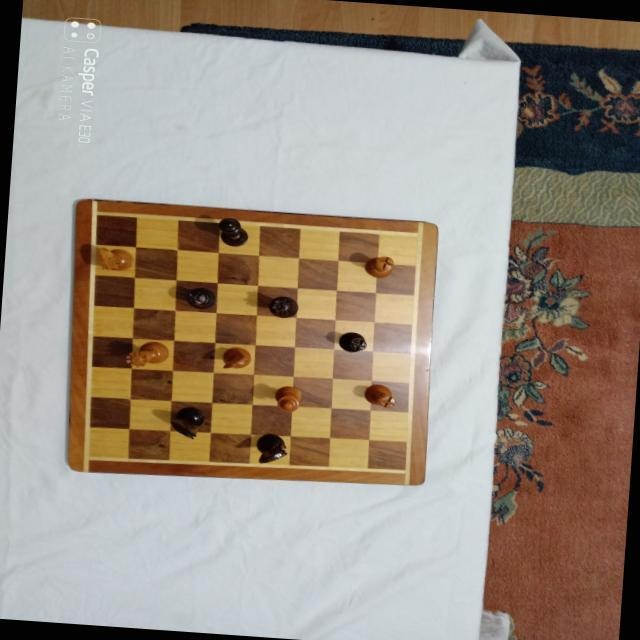black-king: (216, 216, 248, 247)
black-knight: (167, 405, 204, 439), (254, 431, 288, 464)
black-queen: (266, 295, 297, 319)
black-rook: (184, 286, 215, 310), (336, 331, 367, 353)
white-king: (272, 385, 303, 413)
white-knight: (94, 245, 134, 272), (220, 345, 252, 370)
white-queen: (123, 338, 169, 369)
white-rook: (362, 383, 396, 409), (362, 253, 394, 278)
